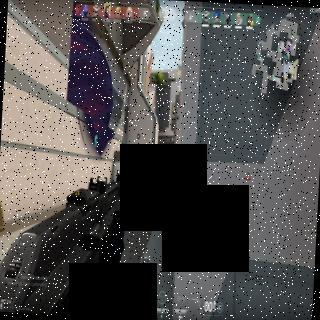ENEMY-BODY: (162, 162, 166, 176), (156, 161, 159, 175), (172, 163, 174, 176)
ENEMY-HEAD: (163, 162, 166, 165), (157, 162, 158, 164)
